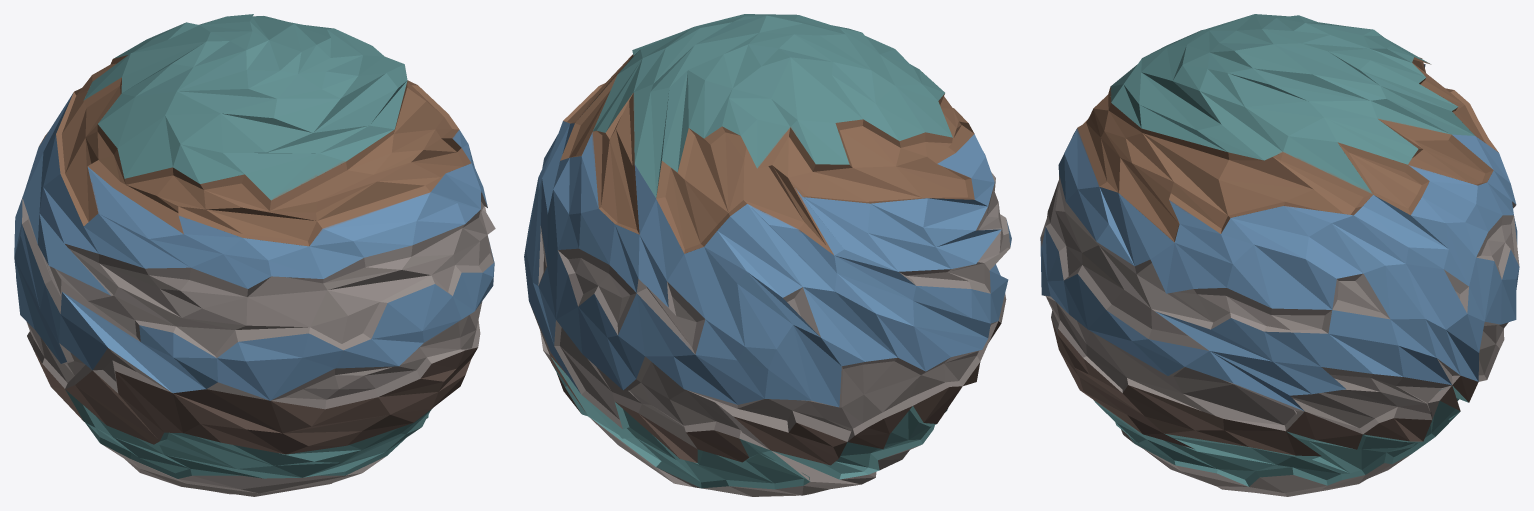
File: jupiter.glb
3 renders of one model, left to right at view 1: azimuth 30°, elevation 25°; view 2: azimuth 150°, elevation 25°; view 3: azimuth 270°, elevation 25°, orthographic.
Size of the model in its own units: 35.21 by 35.37 by 35.11.
1 material, 1 textured.
